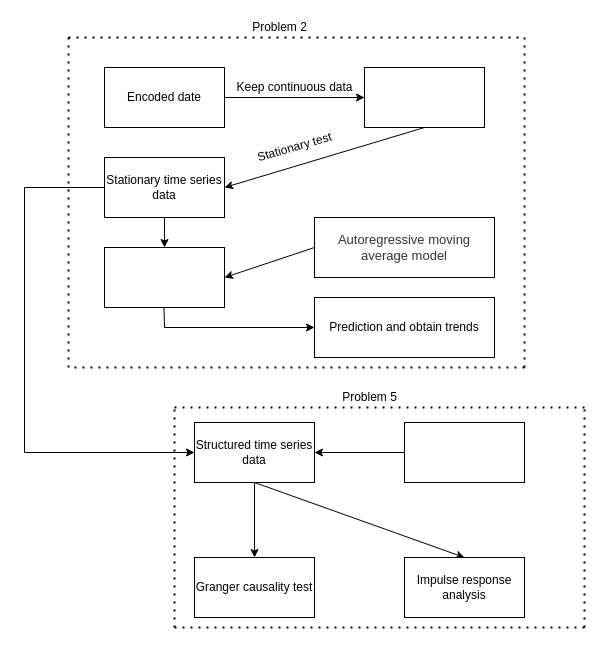
The diagram is 604 pixels wide and 646 high, and some of its shapes have lost their labels. Each missing label, with the box of its shape:
Three commodity model: (104, 246, 224, 308)
Time series data: (364, 66, 484, 128)
Vector autoregressive model: (404, 422, 524, 482)
